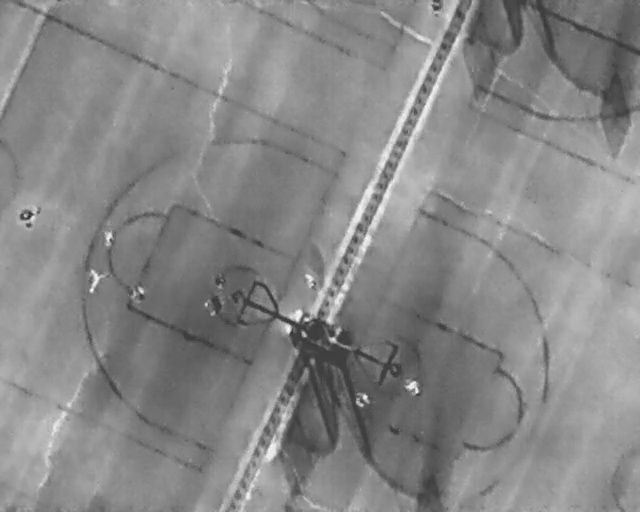Person: (299, 270, 320, 292), (88, 267, 105, 293), (207, 291, 223, 316), (21, 206, 37, 229), (404, 376, 421, 396), (132, 281, 146, 303), (355, 391, 370, 409), (215, 270, 226, 292), (103, 227, 113, 246)
